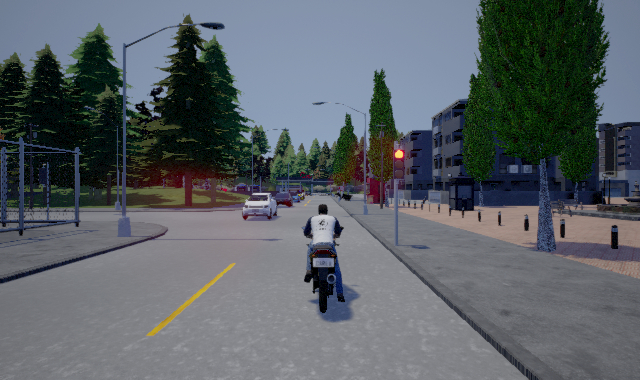traffic_light: (393, 148, 404, 179)
vehicle: (303, 203, 345, 312), (242, 192, 280, 221), (274, 192, 294, 208)
